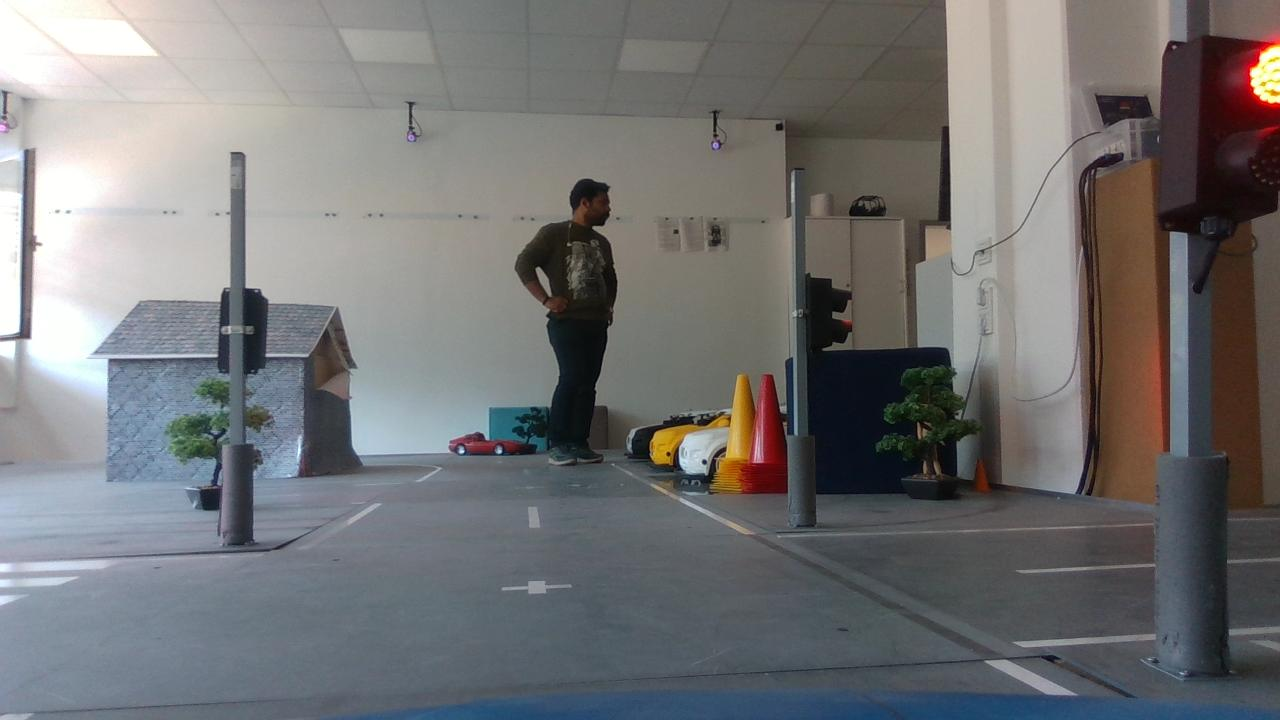traffic_light_red: (1146, 27, 1280, 253)
